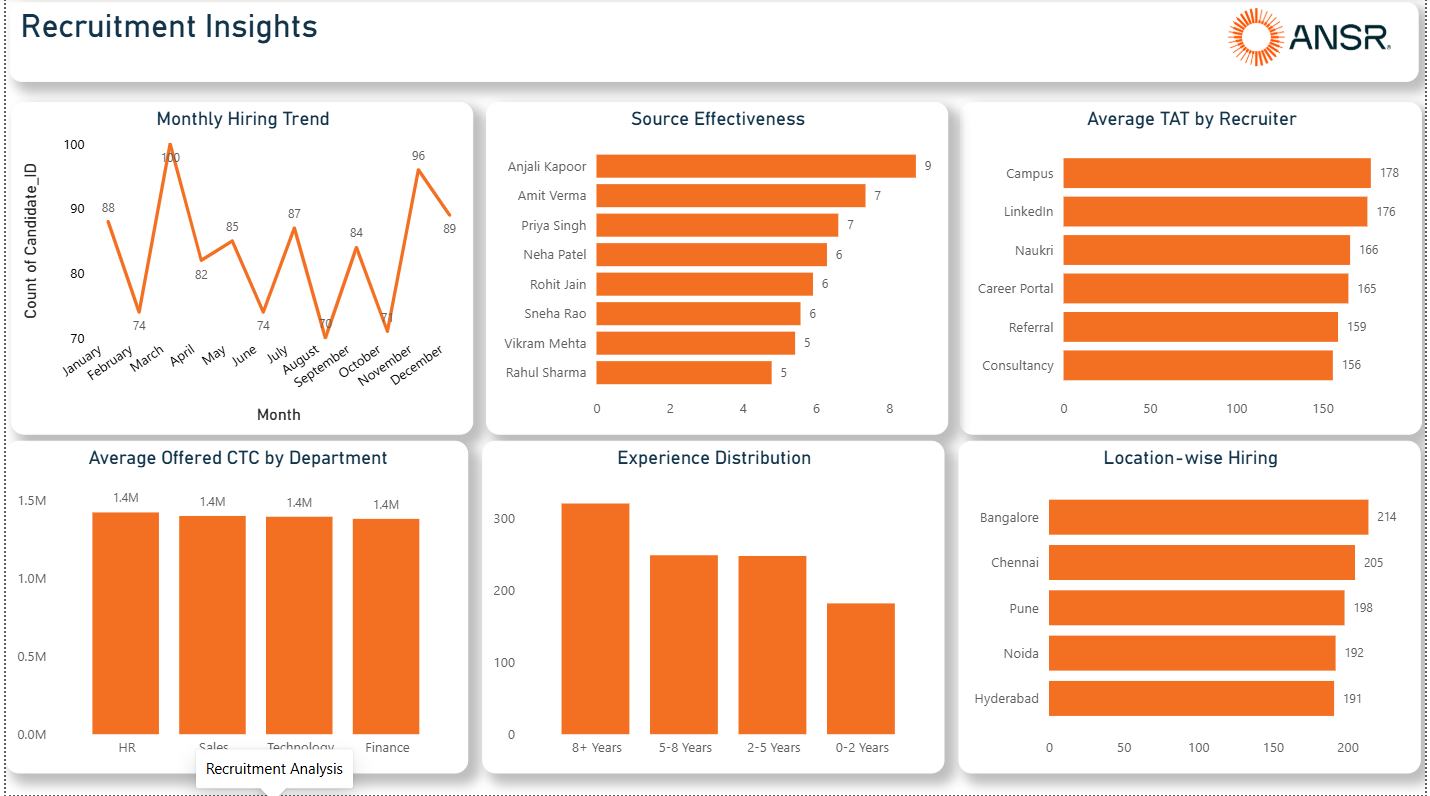

What the dashboard file says about the page in this screenshot:
{"tool":"powerbi","page":{"name":"Recruitment Analysis","canvas":[1280,720],"ordinal":1},"visuals":[{"type":"textbox","title":"Recruitment Insights","box":[3.7,4.9,1270.5,72.1],"z":0},{"type":"image","box":[1071.2,4.9,209.1,63.6],"z":1000},{"type":"lineChart","title":"Monthly Hiring Trend","fields":{"Category":["recruitment_data.Application_Date.Variation.Date Hierarchy.Month"],"Y":["CountNonNull(recruitment_data.Candidate_ID)"]},"box":[4.9,94.2,417,300],"z":2000},{"type":"clusteredBarChart","title":"Average TAT by Recruiter","fields":{"Category":["recruitment_data.Source"],"Y":["CountNonNull(recruitment_data.Candidate_ID)"]},"box":[860,94.2,417,300],"z":3000},{"type":"clusteredBarChart","title":"Source Effectiveness","fields":{"Category":["recruitment_data.Recruiter"],"Y":["recruitment_data.Average TAT"]},"box":[432.4,94.2,417,300],"z":4000},{"type":"clusteredColumnChart","title":"Average Offered CTC by Department","fields":{"Category":["recruitment_data.Department"],"Y":["Avg(recruitment_data.Offered_CTC)"]},"box":[0,399.9,417,300],"z":5000},{"type":"clusteredColumnChart","title":"Experience Distribution","fields":{"Y":["CountNonNull(recruitment_data.Candidate_ID)"],"Category":["recruitment_data.Experience Band"]},"box":[429.2,399.9,417,300],"z":6000},{"type":"clusteredBarChart","title":"Location-wise Hiring","fields":{"Y":["CountNonNull(recruitment_data.Candidate_ID)"],"Category":["recruitment_data.Location"]},"box":[858.4,399.9,417,300],"z":7000}]}

Visuals, with their boxes in screenshot pixels (x1, y1, x2, y2), scaled from the page's 1280x720 canvas onto the 1430x796 screenshot:
"Recruitment Insights" textbox: [x1=4, y1=5, x2=1424, y2=85]
image: [x1=1197, y1=5, x2=1429, y2=76]
"Monthly Hiring Trend" lineChart: [x1=5, y1=104, x2=471, y2=436]
"Average TAT by Recruiter" clusteredBarChart: [x1=961, y1=104, x2=1427, y2=436]
"Source Effectiveness" clusteredBarChart: [x1=483, y1=104, x2=949, y2=436]
"Average Offered CTC by Department" clusteredColumnChart: [x1=0, y1=442, x2=466, y2=774]
"Experience Distribution" clusteredColumnChart: [x1=479, y1=442, x2=945, y2=774]
"Location-wise Hiring" clusteredBarChart: [x1=959, y1=442, x2=1425, y2=774]
